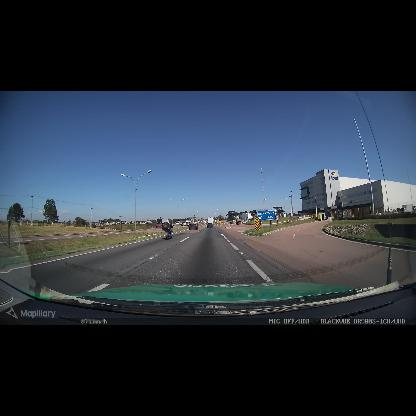A-32b: (220, 220, 224, 223), (192, 221, 195, 223)
O-MP: (255, 217, 260, 230)
R-19: (275, 216, 280, 220)
